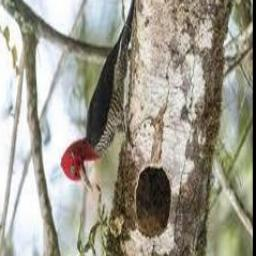Woodpecker: (61, 0, 136, 197)
